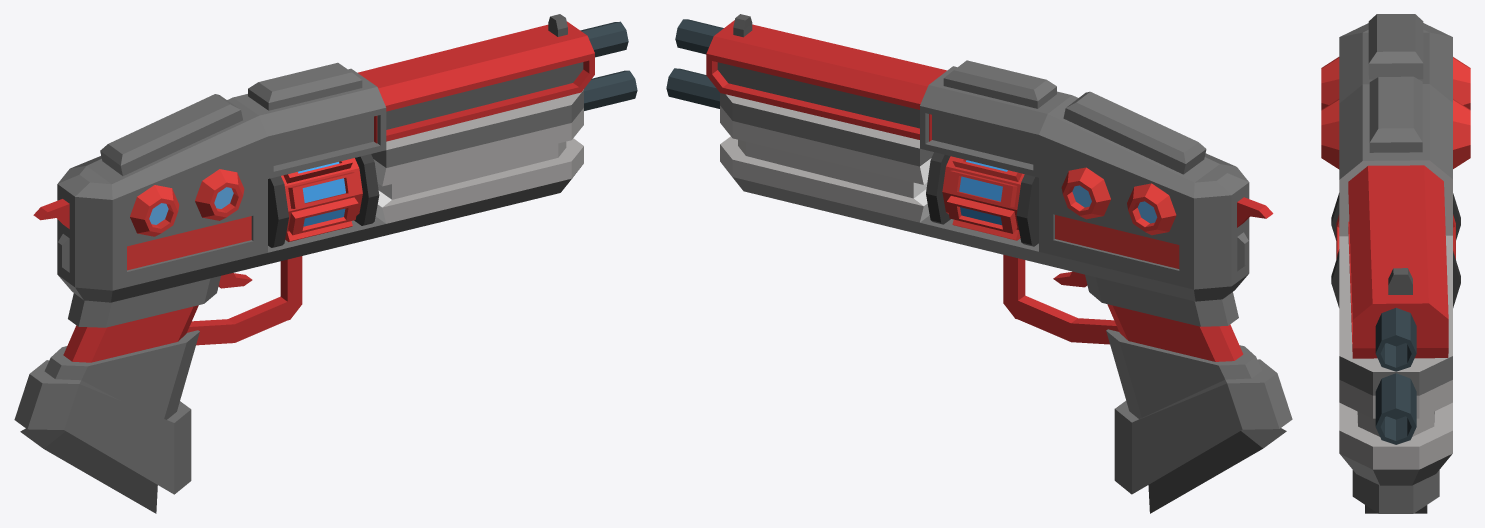
File: Revolver.fbx
3 views of the same model, side by side, from view 1: azimuth 30°, elevation 25°; view 2: azimuth 150°, elevation 25°; view 3: azimuth 270°, elevation 25° (orthographic). The views are drawn at different scales.
Parts seen in each view (by area): view 1: Revolver; view 2: Revolver; view 3: Revolver.
Boxes of the visible parts, left/top/right/bottom form: Revolver: left=14, top=14, right=637, bottom=513; Revolver: left=666, top=14, right=1292, bottom=513; Revolver: left=1321, top=14, right=1470, bottom=513.
Bounding box in the file's own units: 121 × 73.72 × 19.43.
